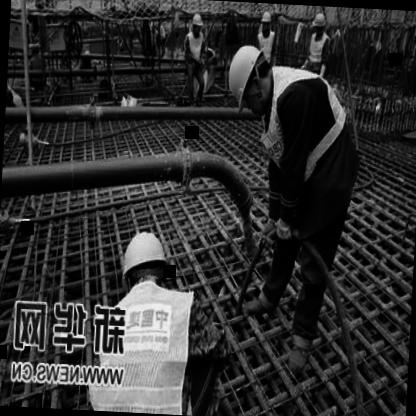helmet: (115, 223, 173, 301), (221, 38, 274, 118), (309, 6, 328, 38), (188, 8, 206, 40), (259, 9, 274, 34)
